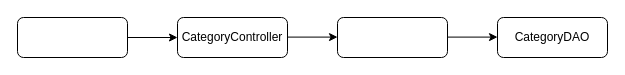
This 625x75 diagram has some shape labels left out. Each missing label, with the box of its shape:
categoryList.html: (16, 16, 128, 58)
CategoryService: (336, 16, 448, 58)
